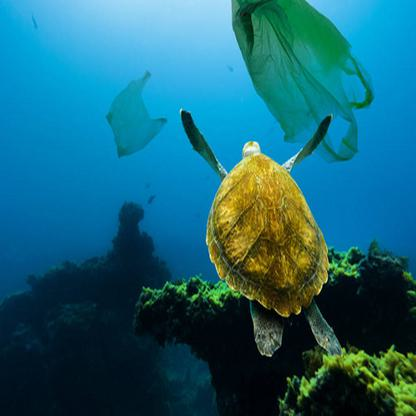plastic bag: (230, 1, 375, 160), (104, 69, 166, 159)
